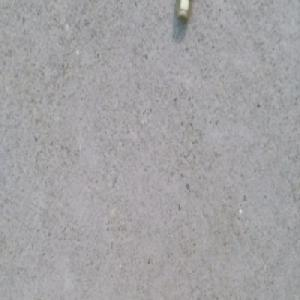BoltNutSet: (175, 0, 194, 22)
